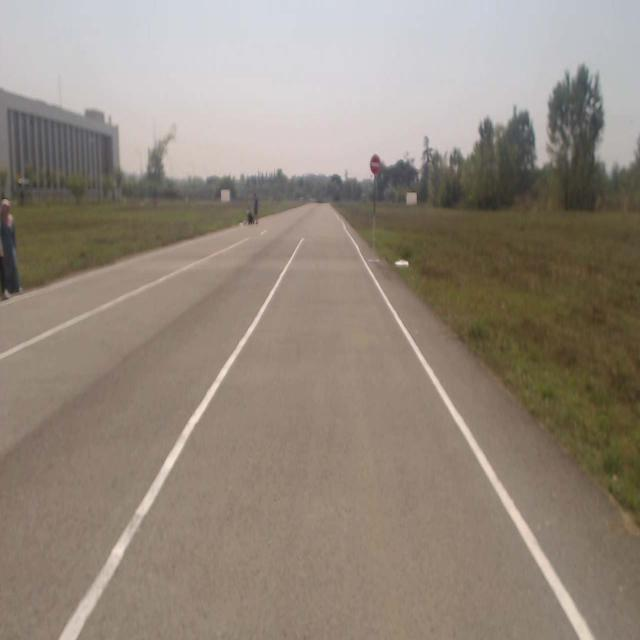girisyok: (371, 155, 381, 173)
